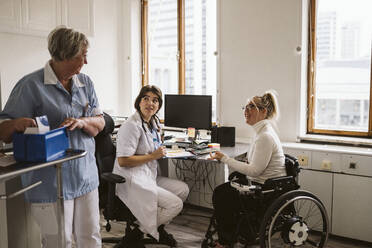wheelchair: (201, 90, 329, 248)
